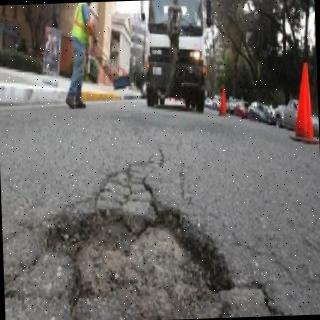pothole: (50, 207, 233, 320)
